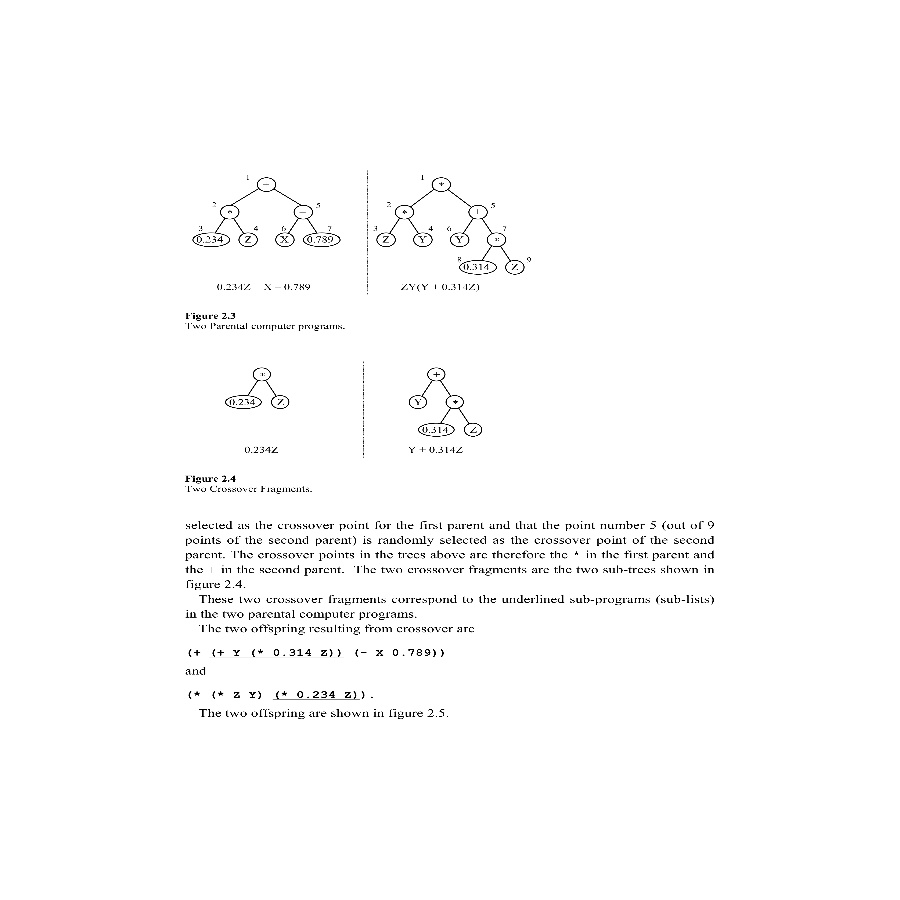eq: (185, 644, 449, 660), (185, 685, 367, 704)
